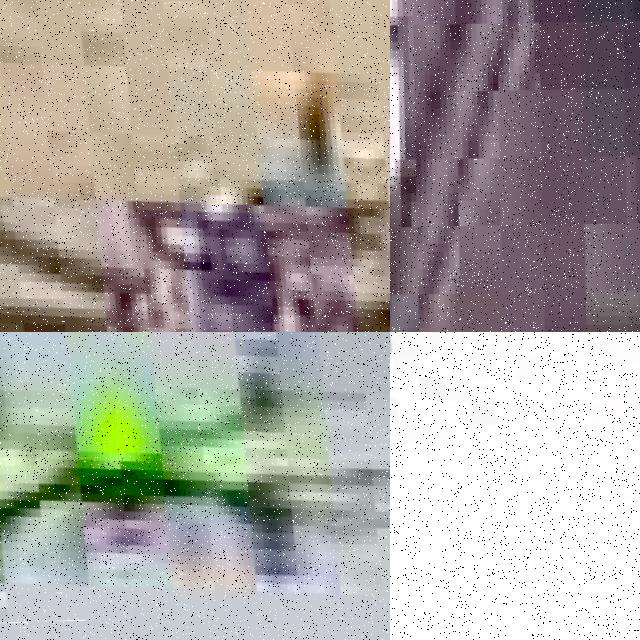0: (0, 0, 390, 332), (0, 332, 390, 621)
drone: (390, 332, 640, 640)
